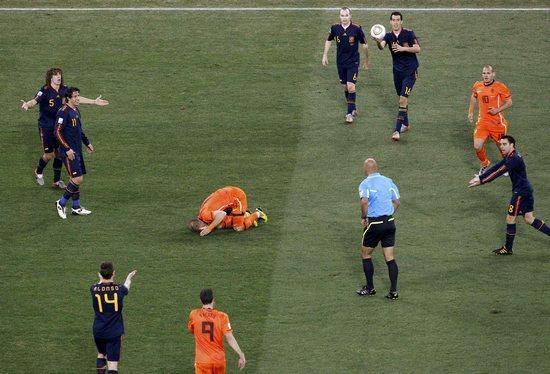bending: (186, 184, 272, 240)
up: (470, 132, 548, 256), (374, 8, 431, 141), (353, 156, 405, 301), (18, 65, 72, 191), (52, 80, 96, 227), (321, 5, 371, 130), (84, 259, 139, 371), (465, 57, 516, 169), (185, 284, 245, 374)
